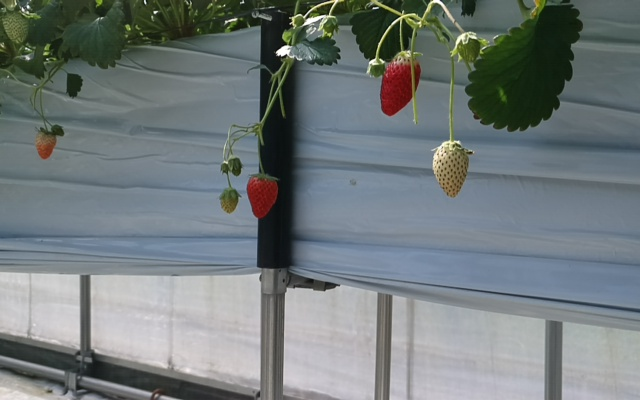GreenStrawberry: (430, 138, 470, 201), (1, 4, 40, 47), (453, 33, 484, 65), (34, 128, 57, 161), (216, 185, 239, 215)
MatureStrawberry: (378, 48, 422, 120), (246, 174, 281, 221)
